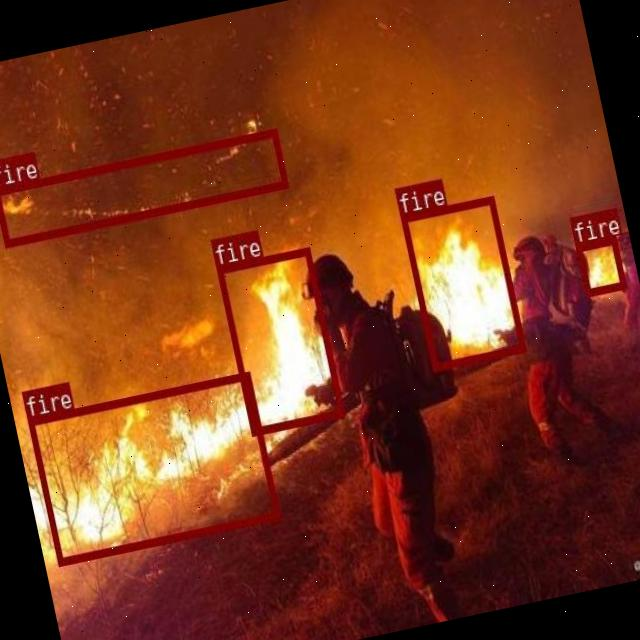fire: (26, 370, 278, 564), (0, 127, 286, 246), (215, 247, 343, 434), (399, 195, 526, 370), (574, 235, 624, 294)
